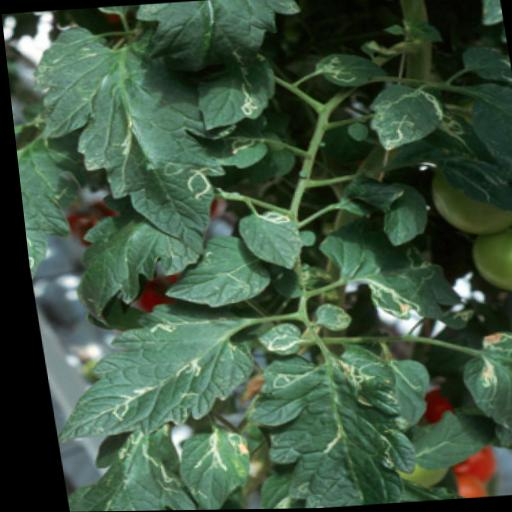Leaf_Miner: (20, 18, 233, 264), (28, 294, 259, 441), (222, 342, 414, 510), (135, 0, 315, 133), (147, 232, 269, 310), (159, 426, 246, 511), (446, 331, 512, 434), (359, 78, 449, 151), (231, 205, 302, 272)
